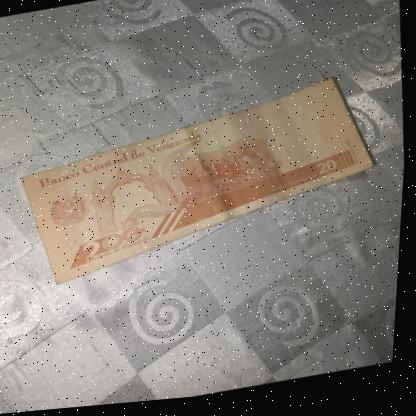twenty-back-vef: (13, 76, 387, 292)
